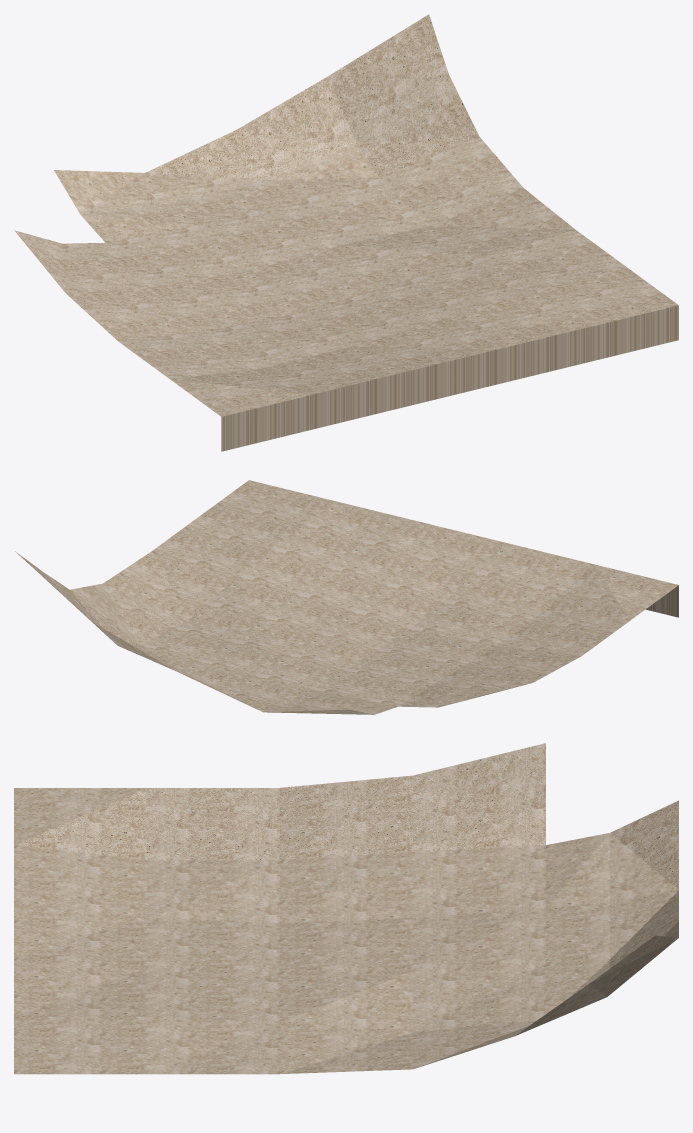
Rendered from sbcs_landbit_78.obj.
3 renders of one model, top to bottom at view 1: azimuth 30°, elevation 25°; view 2: azimuth 150°, elevation 25°; view 3: azimuth 270°, elevation 25°, orthographic. The views are drawn at different scales.
Parts seen in each view (by area): view 1: sbcs_landbit_78; view 2: sbcs_landbit_78; view 3: sbcs_landbit_78.
Part boxes in pixels (left/top/right/bottom): sbcs_landbit_78: left=14, top=14, right=678, bottom=451; sbcs_landbit_78: left=15, top=480, right=678, bottom=714; sbcs_landbit_78: left=14, top=743, right=678, bottom=1074.
Bounding box in the file's own units: 229 × 68.33 × 225.
